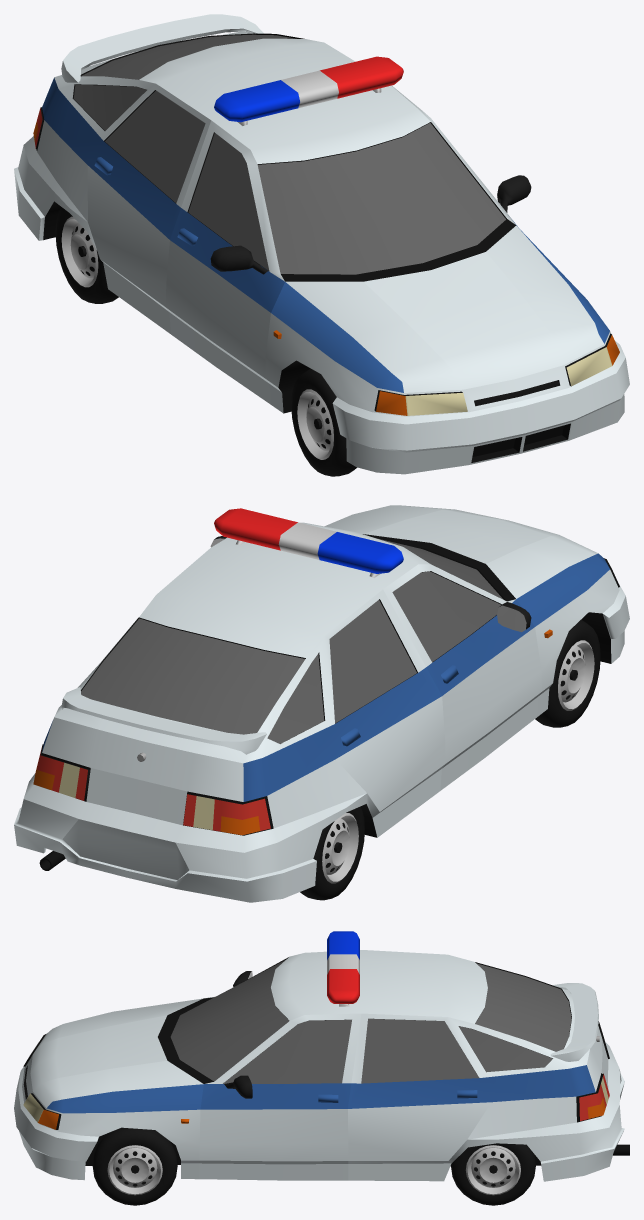
File: Lada_2112_V_0_5.fbx
3 views of the same model, one above another, from view 1: azimuth 30°, elevation 25°; view 2: azimuth 150°, elevation 25°; view 3: azimuth 270°, elevation 25° (orthographic). The views are drawn at different scales.
Parts seen in each view (by area): view 1: Lada_2112, Siren, Lada_2112.001, Wheel_R_F, Wheel_R_B, Mirror_R, Mirror_L; view 2: Lada_2112, Siren, Wheel_R_F, Wheel_R_B, Lada_2112.001, Mirror_R; view 3: Lada_2112, Wheel_L_F, Wheel_L_B, Siren, Lada_2112.001, Mirror_L.
Boxes of the visible parts, x1,y1,x2,y2 form: Lada_2112: (14, 31, 629, 474); Siren: (214, 56, 403, 125); Lada_2112.001: (61, 14, 263, 82); Wheel_R_F: (291, 368, 356, 476); Wheel_R_B: (55, 207, 118, 303); Mirror_R: (210, 245, 267, 274); Mirror_L: (497, 175, 531, 212); Lada_2112: (14, 505, 629, 902); Siren: (214, 508, 403, 577); Wheel_R_F: (535, 619, 600, 727); Wheel_R_B: (300, 807, 364, 900); Lada_2112.001: (61, 687, 266, 754); Mirror_R: (497, 602, 531, 632); Lada_2112: (14, 950, 629, 1181); Wheel_L_F: (92, 1127, 177, 1205); Wheel_L_B: (451, 1143, 535, 1205); Siren: (327, 931, 359, 1006); Lada_2112.001: (550, 983, 598, 1061); Mirror_L: (224, 1075, 252, 1098).
Size of the model in its own units: 191 by 151 by 424.
